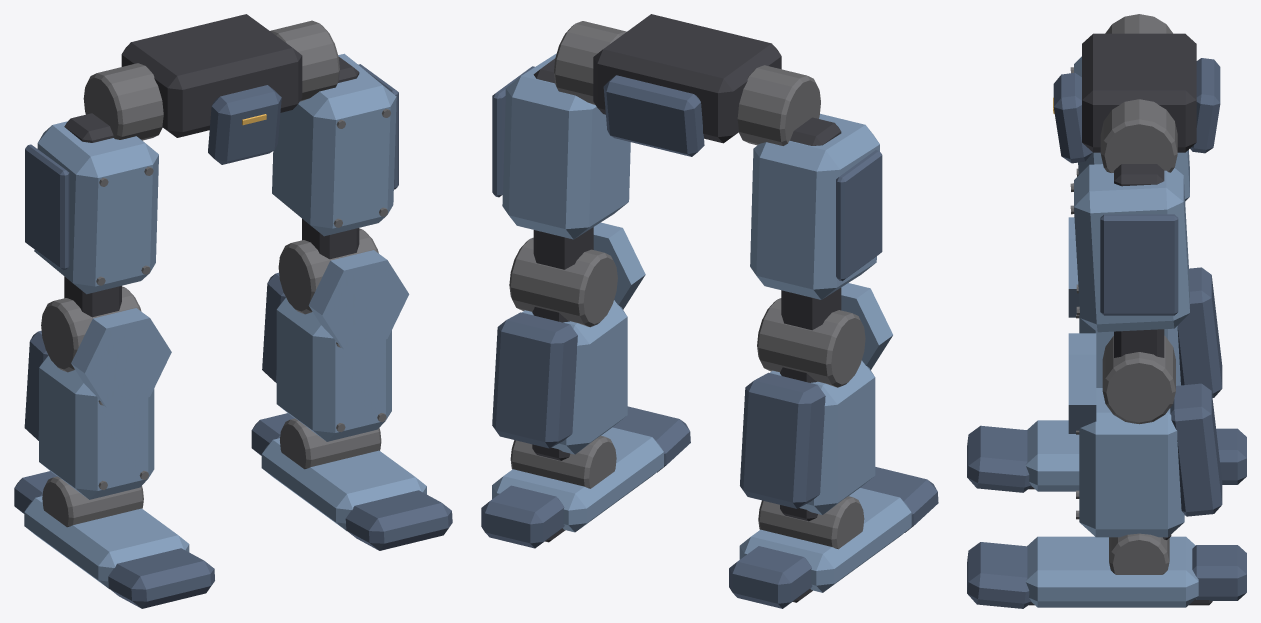
File: recon_legs.glb
3 views of the same model, side by side, from view 1: azimuth 30°, elevation 25°; view 2: azimuth 150°, elevation 25°; view 3: azimuth 270°, elevation 25° (orthographic). The views are drawn at different scales.
Parts seen in each view (by area): view 1: ThighPlateL, ThighPlateR, Pelvis, ShinL, ShinR, KneeCapR, KneeCapL, FootL, FootR, HipJointR, ThighSideR, Crotch (+13 smaller); view 2: ThighPlateL, ThighPlateR, Pelvis, CalfL, CalfR, ShinR, ShinL, KneeJointL, KneeJointR, PelvisBack, FootR, FootL (+16 smaller); view 3: ShinL, Pelvis, FootL, ThighPlateL, ThighSideL, CalfL, KneeJointL, HipJointL, CalfR, ToeR, ToeL, FootR (+11 smaller).
Boxes of the visible parts, x1,y1,x2,y2 form: ThighPlateL: (272, 53, 396, 236); ThighPlateR: (34, 121, 158, 294); Pelvis: (121, 14, 302, 137); ShinL: (276, 297, 391, 441); ShinR: (39, 355, 154, 499); KneeCapR: (71, 308, 171, 407); KneeCapL: (308, 250, 409, 349); FootL: (261, 438, 426, 530); FootR: (24, 496, 189, 588); HipJointR: (83, 63, 163, 140); ThighSideR: (25, 144, 69, 270); Crotch: (208, 85, 281, 164); ThighPlateL: (502, 53, 630, 239); ThighPlateR: (750, 113, 879, 299); Pelvis: (593, 14, 781, 143); CalfL: (492, 312, 577, 448); CalfR: (740, 372, 825, 508); ShinR: (770, 360, 875, 514); ShinL: (522, 300, 627, 454); KneeJointL: (509, 237, 617, 327); KneeJointR: (757, 298, 865, 387); PelvisBack: (603, 75, 704, 156); FootR: (739, 488, 911, 592); FootL: (492, 427, 663, 532); ShinL: (1079, 388, 1184, 537); Pelvis: (1082, 33, 1196, 152); FootL: (1025, 536, 1198, 607); ThighPlateL: (1074, 164, 1189, 332); ThighSideL: (1100, 214, 1178, 315); CalfL: (1170, 383, 1222, 516); KneeJointL: (1102, 335, 1175, 424); HipJointL: (1100, 99, 1177, 172); CalfR: (1177, 267, 1222, 397); ToeR: (967, 425, 1031, 492); ToeL: (967, 542, 1031, 608); FootR: (1025, 420, 1079, 491).
Size of the model in its own units: 4.28 by 5.72 by 3.06.
